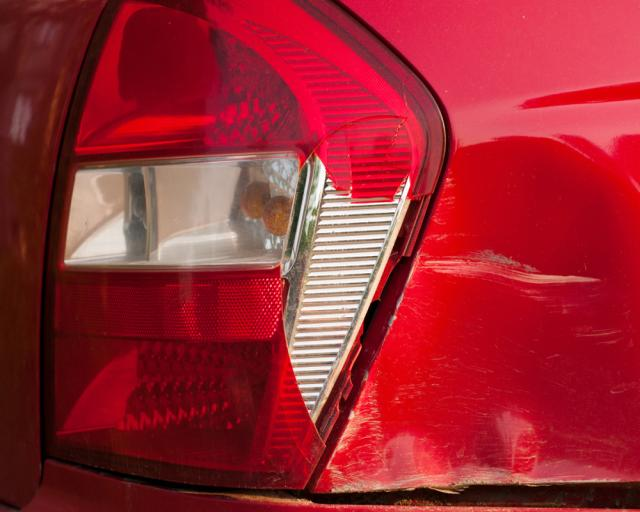dent: (317, 137, 640, 492)
lamp broken: (38, 0, 458, 495)
